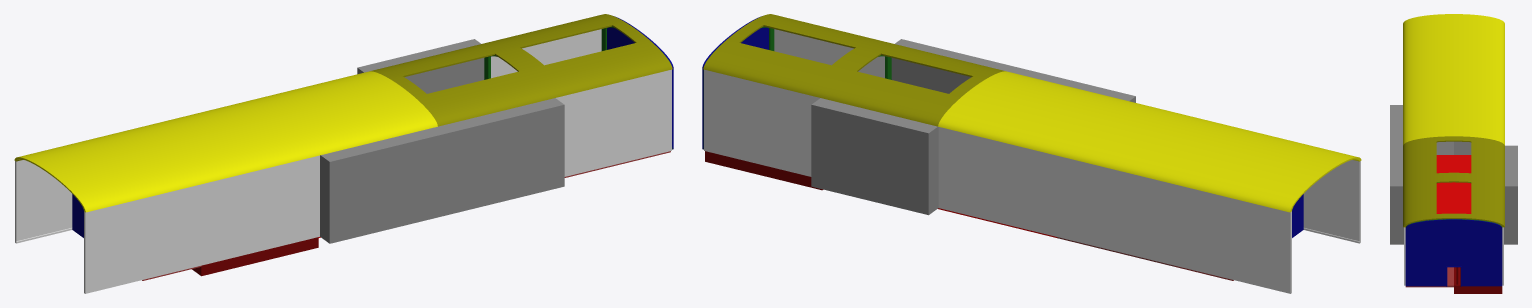
The model's file is Carriage_1.fbx.
The picture shows the model from 3 angles, left to right: view 1: azimuth 30°, elevation 25°; view 2: azimuth 150°, elevation 25°; view 3: azimuth 270°, elevation 25°; orthographic projection. The views are drawn at different scales.
Visible parts, largest first — view 1: GEO_Carriage_Wall_Pipes1, GEO_Carriage_Wall_Pipes2, GEO_Carriage_Wall7, GEO_Carriage_Wall2, GEO_Carriage_Wall5, GEO_Carriage_Roof3, GEO_Carriage_Roof1, GEO_Carriage_Roof2, GEO_Carriage_Roof_Skylight2, GEO_Carriage_Roof_Skylight1, GEO_Carriage_Wall1, GEO_Carriage_Wall_Pipes3 (+3 smaller); view 2: GEO_Carriage_Wall_Pipes3, GEO_Carriage_Wall1, GEO_Carriage_Wall3, GEO_Carriage_Wall6, GEO_Carriage_Wall4, GEO_Carriage_Roof3, GEO_Carriage_Roof1, GEO_Carriage_Roof2, GEO_Carriage_Roof_Skylight2, GEO_Carriage_Roof_Skylight1, GEO_Carriage_Wall7, GEO_Carriage_Wall_Pipes2 (+4 smaller); view 3: GEO_Carriage_End_Door, GEO_Carriage_Roof1, GEO_Carriage_Roof2, GEO_Carriage_Roof3, GEO_Carriage_Roof_Skylight1, GEO_Carriage_Roof_Skylight2, GEO_Carriage_Wall_Pipes3, GEO_Carriage_Wall_Pipes2, GEO_Carriage_Floor3, GEO_Carriage_Floor6, GEO_Carriage_Wall_Pipes1, GEO_Carriage_FloorHalf_Pipes1 (+6 smaller).
Part boxes in pixels (left/top/right/bottom): GEO_Carriage_Wall_Pipes1: left=320, top=126, right=447, bottom=243; GEO_Carriage_Wall_Pipes2: left=438, top=98, right=564, bottom=214; GEO_Carriage_Wall7: left=84, top=184, right=202, bottom=293; GEO_Carriage_Wall2: left=202, top=155, right=319, bottom=264; GEO_Carriage_Wall5: left=556, top=69, right=671, bottom=176; GEO_Carriage_Roof3: left=14, top=128, right=202, bottom=212; GEO_Carriage_Roof1: left=253, top=71, right=437, bottom=154; GEO_Carriage_Roof2: left=135, top=100, right=320, bottom=183; GEO_Carriage_Roof_Skylight2: left=370, top=42, right=555, bottom=126; GEO_Carriage_Roof_Skylight1: left=488, top=14, right=672, bottom=97; GEO_Carriage_Wall1: left=15, top=160, right=72, bottom=243; GEO_Carriage_Wall_Pipes3: left=357, top=39, right=484, bottom=93; GEO_Carriage_Wall_Pipes3: left=811, top=98, right=938, bottom=215; GEO_Carriage_Wall1: left=1173, top=184, right=1291, bottom=293; GEO_Carriage_Wall3: left=1056, top=155, right=1173, bottom=264; GEO_Carriage_Wall6: left=938, top=127, right=1055, bottom=236; GEO_Carriage_Wall4: left=704, top=69, right=819, bottom=176; GEO_Carriage_Roof3: left=1173, top=128, right=1361, bottom=212; GEO_Carriage_Roof1: left=938, top=71, right=1122, bottom=154; GEO_Carriage_Roof2: left=1055, top=100, right=1240, bottom=183; GEO_Carriage_Roof_Skylight2: left=820, top=42, right=1005, bottom=126; GEO_Carriage_Roof_Skylight1: left=703, top=14, right=887, bottom=97; GEO_Carriage_Wall7: left=1303, top=160, right=1360, bottom=243; GEO_Carriage_Wall_Pipes2: left=891, top=39, right=1018, bottom=93; GEO_Carriage_End_Door: left=1405, top=219, right=1502, bottom=286; GEO_Carriage_Roof1: left=1403, top=95, right=1504, bottom=145; GEO_Carriage_Roof2: left=1403, top=54, right=1504, bottom=104; GEO_Carriage_Roof3: left=1403, top=14, right=1504, bottom=63; GEO_Carriage_Roof_Skylight1: left=1403, top=177, right=1504, bottom=227; GEO_Carriage_Roof_Skylight2: left=1403, top=136, right=1504, bottom=185; GEO_Carriage_Wall_Pipes3: left=1504, top=145, right=1517, bottom=244; GEO_Carriage_Wall_Pipes2: left=1390, top=145, right=1403, bottom=244; GEO_Carriage_Floor3: left=1436, top=182, right=1471, bottom=213; GEO_Carriage_Floor6: left=1436, top=155, right=1471, bottom=173; GEO_Carriage_Wall_Pipes1: left=1390, top=105, right=1402, bottom=145; GEO_Carriage_FloorHalf_Pipes1: left=1454, top=267, right=1502, bottom=293.
Size of the model in its own units: 4825 by 836 by 1273.
